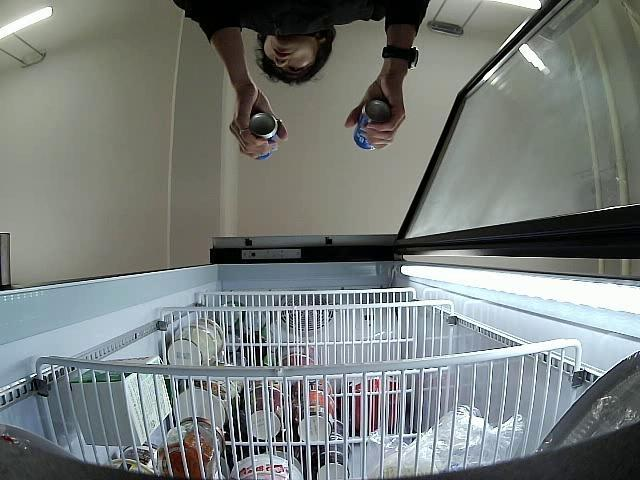15_letsbe: (354, 100, 392, 150), (249, 112, 278, 160)
